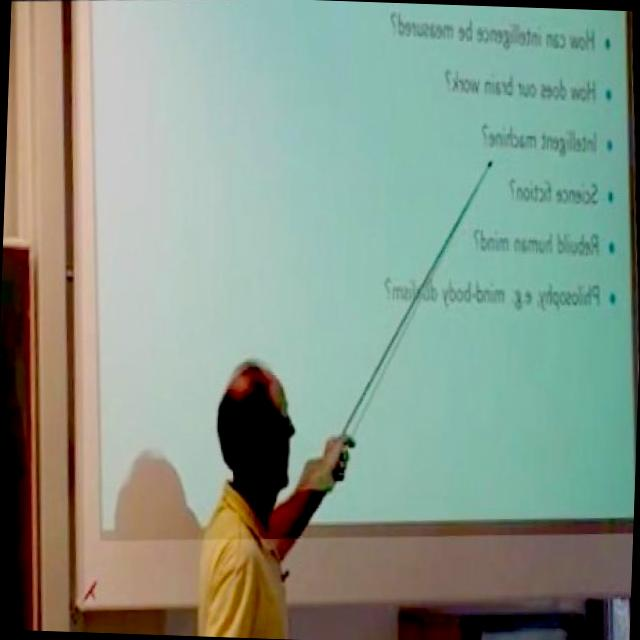Instructor: (183, 318, 344, 640)
Slide: (93, 3, 633, 534)
